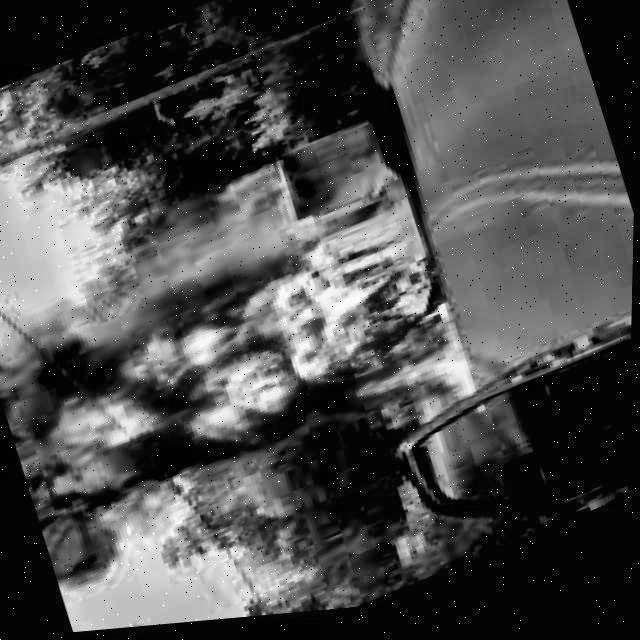Fire: (130, 220, 478, 519)
Smoke: (0, 244, 272, 584)
